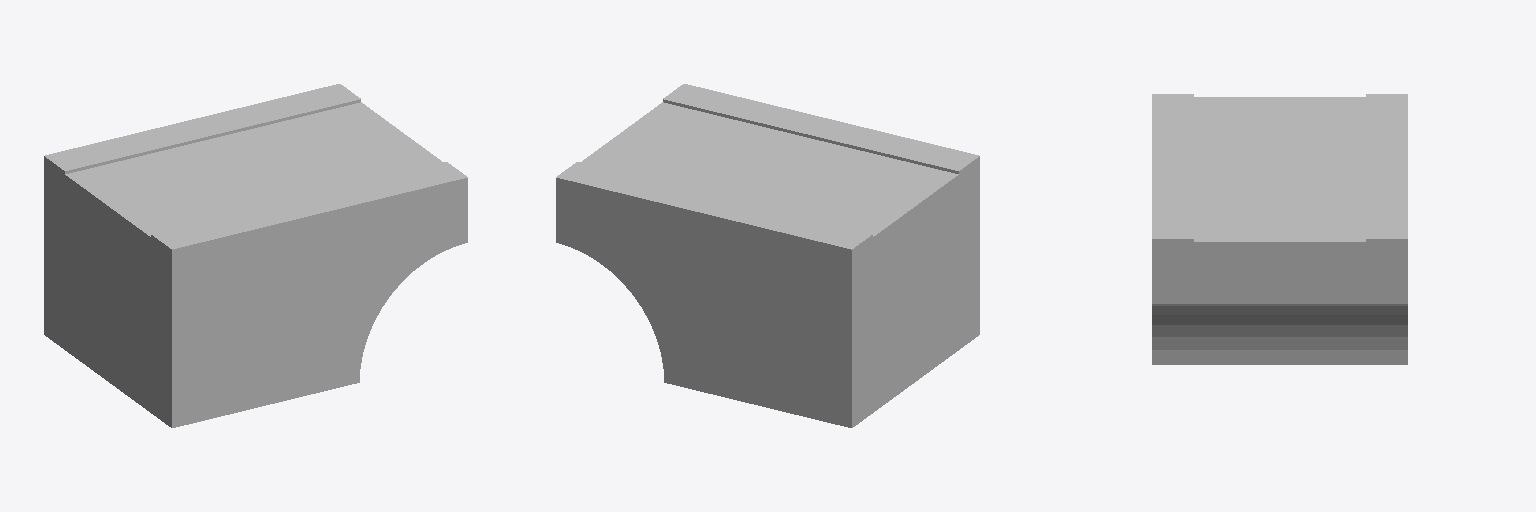
File: tile249.obj
3 renders of one model, left to right at view 1: azimuth 30°, elevation 25°; view 2: azimuth 150°, elevation 25°; view 3: azimuth 270°, elevation 25°, orthographic.
Parts seen in each view (by area): view 1: tile249; view 2: tile249; view 3: tile249.
Boxes of the visible parts, <box> form: tile249: <box>44,84,467,427</box>; tile249: <box>556,84,979,427</box>; tile249: <box>1152,94,1407,364</box>.
Bounding box in the file's own units: 1 × 0.5767 × 0.75.